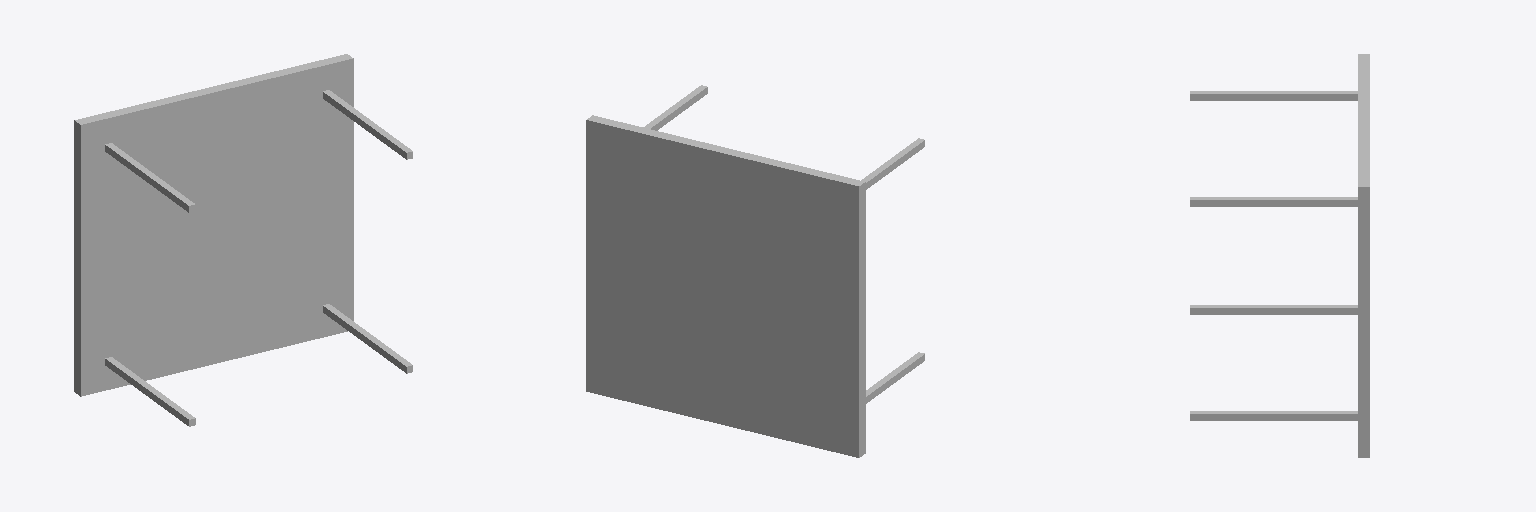
The model's file is random_table55.obj.
3 renders of one model, left to right at view 1: azimuth 30°, elevation 25°; view 2: azimuth 150°, elevation 25°; view 3: azimuth 270°, elevation 25°, orthographic.
Parts seen in each view (by area): view 1: Table_Cube.1340, TableLeg1_Cube.1342, TableLeg3_Cube.1344, TableLeg0_Cube.1341, TableLeg2_Cube.1343; view 2: Table_Cube.1340, TableLeg1_Cube.1342, TableLeg3_Cube.1344, TableLeg0_Cube.1341; view 3: Table_Cube.1340, TableLeg0_Cube.1341, TableLeg1_Cube.1342, TableLeg2_Cube.1343, TableLeg3_Cube.1344.
Part boxes in pixels (left/top/right/bottom): Table_Cube.1340: left=74, top=54, right=353, bottom=396; TableLeg1_Cube.1342: left=105, top=143, right=195, bottom=212; TableLeg3_Cube.1344: left=105, top=357, right=195, bottom=426; TableLeg0_Cube.1341: left=323, top=90, right=412, bottom=159; TableLeg2_Cube.1343: left=323, top=304, right=412, bottom=373; Table_Cube.1340: left=586, top=115, right=865, bottom=457; TableLeg1_Cube.1342: left=861, top=138, right=924, bottom=189; TableLeg3_Cube.1344: left=866, top=352, right=924, bottom=403; TableLeg0_Cube.1341: left=643, top=85, right=707, bottom=130; Table_Cube.1340: left=1358, top=54, right=1369, bottom=457; TableLeg0_Cube.1341: left=1190, top=197, right=1357, bottom=206; TableLeg1_Cube.1342: left=1190, top=91, right=1357, bottom=100; TableLeg2_Cube.1343: left=1190, top=411, right=1357, bottom=420; TableLeg3_Cube.1344: left=1190, top=305, right=1357, bottom=314.
Size of the model in its own units: 8.21 by 7.81 by 4.71.